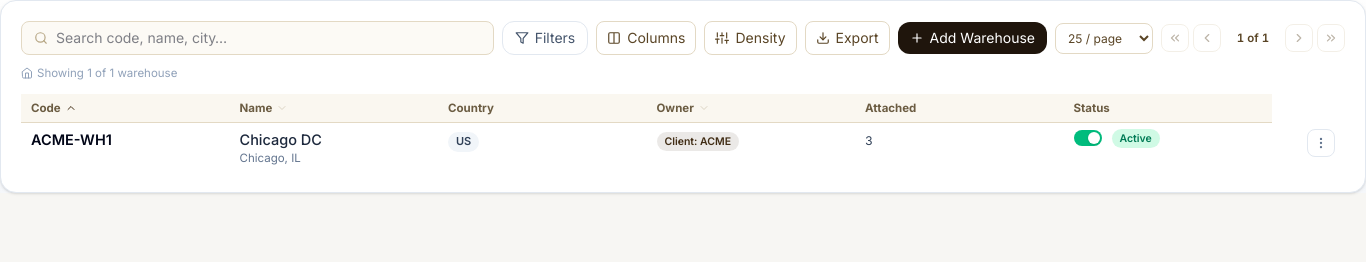
Scenario: WarehousesPage · role gating › per-row kebab: CLIENT-owned warehouse hides "Attach clients" (regardless of role)
expect the text "ACME-WH1" is shown: met, box [31,131,112,148]
What coordinates should you click on to do the following:
click the button named "Row actions"
I would click on:
 (1321, 143)
Its box is [1307,129,1335,157].
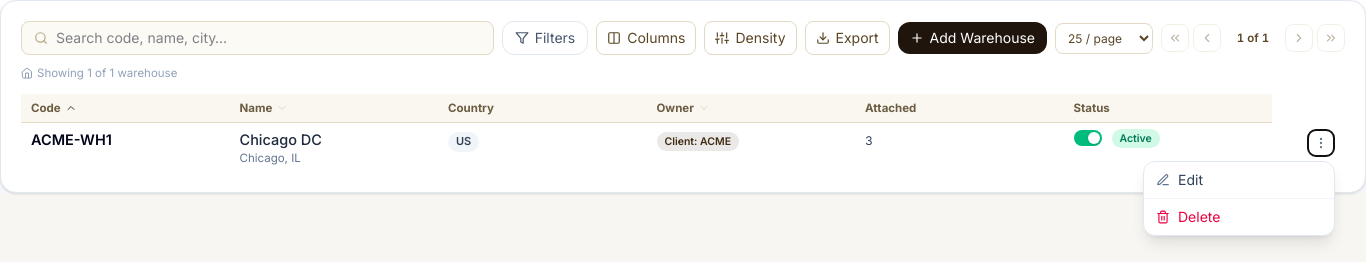
expect the menu item "Edit" is shown: met, box [1144,162,1334,198]
expect the menu item "Delete" is shown: met, box [1144,198,1334,235]
